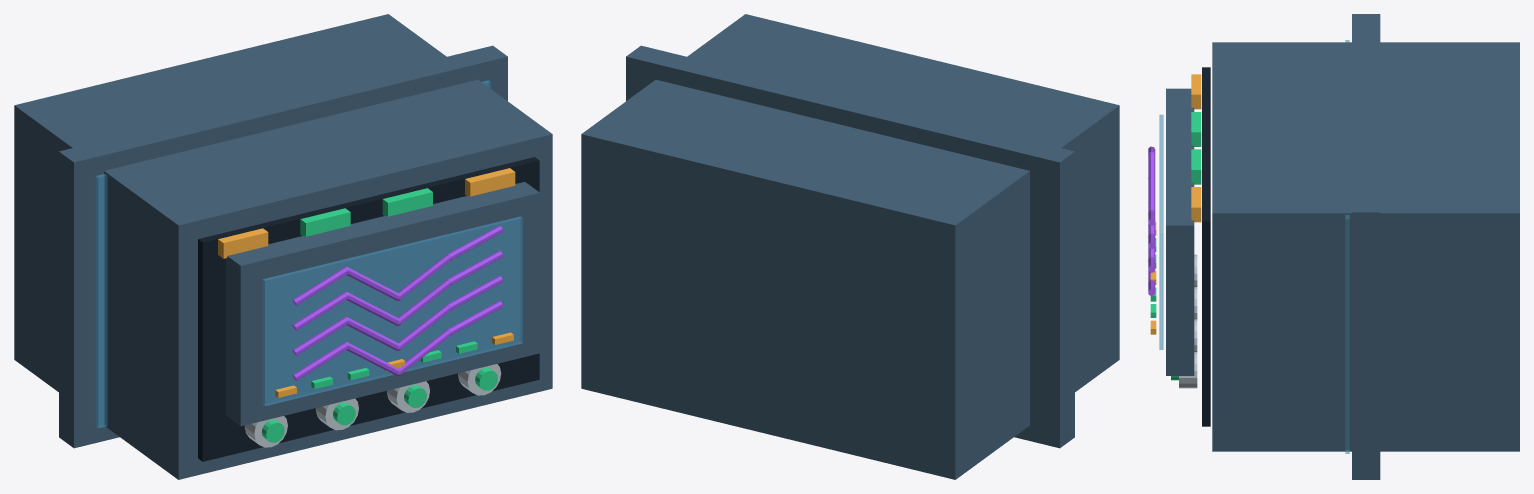
Rendered from 66_L81_FaultEventReplayChronicle.fbx.
3 views of the same model, side by side, from view 1: azimuth 30°, elevation 25°; view 2: azimuth 150°, elevation 25°; view 3: azimuth 270°, elevation 25° (orthographic). The views are drawn at different scales.
Visible parts, largest first — view 1: FaultEventReplayChronicle, FaultEventReplayChronicle_Part_0051, FaultEventReplayChronicle_Part_0052; view 2: FaultEventReplayChronicle, FaultEventReplayChronicle_Part_0051; view 3: FaultEventReplayChronicle, FaultEventReplayChronicle_Part_0051, FaultEventReplayChronicle_Part_0052.
Part boxes in pixels (x1,y1,x2,y2): FaultEventReplayChronicle: [14, 14, 552, 479]; FaultEventReplayChronicle_Part_0051: [59, 45, 507, 448]; FaultEventReplayChronicle_Part_0052: [95, 80, 490, 428]; FaultEventReplayChronicle: [581, 14, 1119, 479]; FaultEventReplayChronicle_Part_0051: [626, 45, 1074, 448]; FaultEventReplayChronicle: [1148, 42, 1519, 451]; FaultEventReplayChronicle_Part_0051: [1352, 14, 1380, 479]; FaultEventReplayChronicle_Part_0052: [1345, 40, 1349, 453].
Bounding box in the file's own units: 116 × 73 × 91.9.
